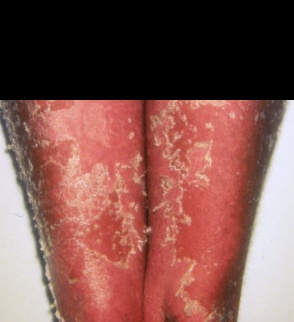SJS-TEN: (0, 99, 293, 322)
